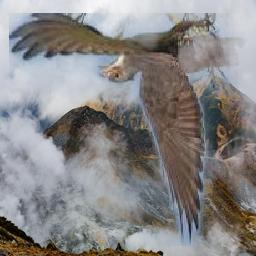Cuckoo: (10, 14, 253, 247)
